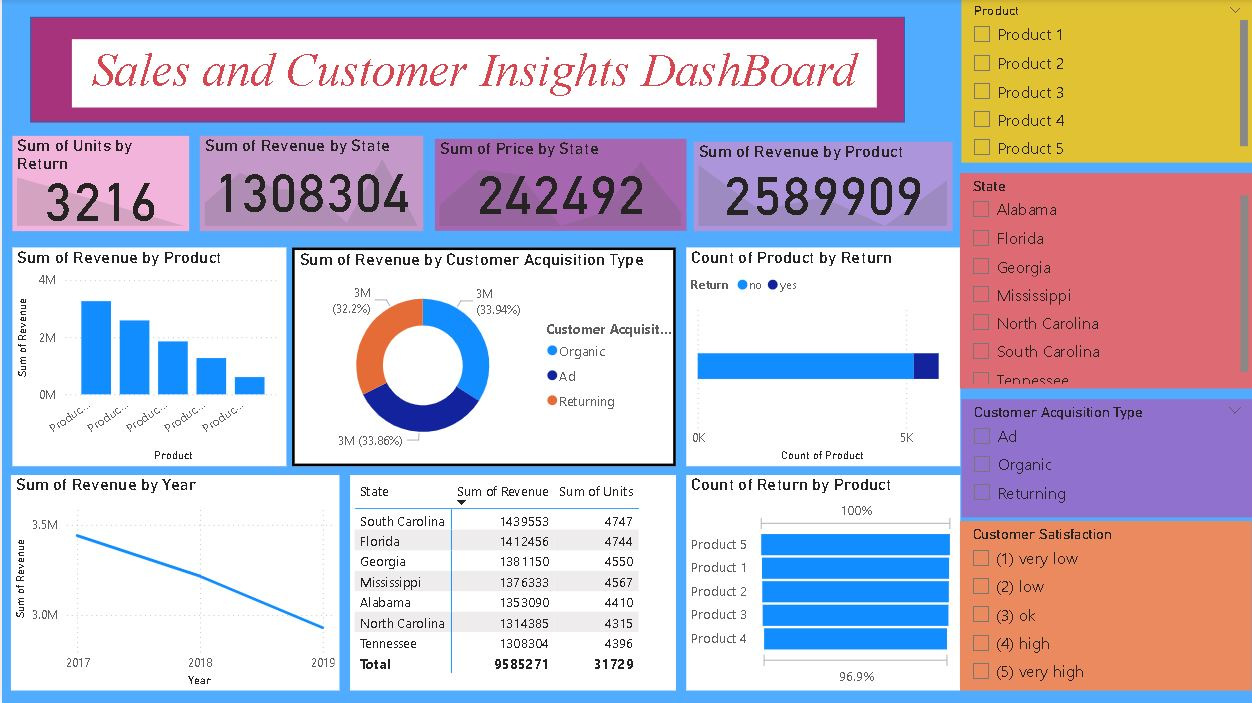

This screenshot's page, from the dashboard's own definition file:
{"tool":"powerbi","page":{"name":"Page 1","canvas":[1280,720],"ordinal":0},"visuals":[{"type":"clusteredColumnChart","fields":{"Category":["Data_Table.Product"],"Y":["Sum(Data_Table.Revenue)"]},"box":[10.7,254.2,280,223.7],"z":0},{"type":"lineChart","fields":{"Category":["Data_Table.Date.Variation.Date Hierarchy.Year","Data_Table.Date.Variation.Date Hierarchy.Quarter","Data_Table.Date.Variation.Date Hierarchy.Month","Data_Table.Date.Variation.Date Hierarchy.Day"],"Y":["Sum(Data_Table.Revenue)"]},"box":[9.1,487,336.3,220.7],"z":1000},{"type":"donutChart","fields":{"Category":["Data_Table.Customer Acquisition Type"],"Y":["Sum(Data_Table.Revenue)"]},"box":[296.8,254.2,392.6,223.7],"z":2000},{"type":"barChart","fields":{"Series":["Data_Table.Return"],"Y":["CountNonNull(Data_Table.Product)"]},"box":[700.1,254.2,280,223.7],"z":3000},{"type":"pivotTable","fields":{"Rows":["Data_Table.State"],"Values":["Sum(Data_Table.Revenue)","Sum(Data_Table.Units)"]},"box":[356.1,487,333.3,220.7],"z":4000},{"type":"kpi","fields":{"Indicator":["Sum(Data_Table.Revenue)"],"TrendLine":["Data_Table.Product"]},"box":[707.7,146.1,264.8,91.3],"z":5000},{"type":"kpi","fields":{"Indicator":["Sum(Data_Table.Revenue)"],"TrendLine":["Data_Table.State"]},"box":[202.4,140,228.3,97.4],"z":6000},{"type":"kpi","fields":{"TrendLine":["Data_Table.Return"],"Indicator":["Sum(Data_Table.Units)"]},"box":[10.7,140,181.1,97.4],"z":7000},{"type":"funnel","fields":{"Category":["Data_Table.Product"],"Y":["CountNonNull(Data_Table.Return)"]},"box":[700.1,487,280,220.7],"z":8000},{"type":"slicer","fields":{"Values":["Data_Table.State"]},"box":[980.1,178.1,299.8,220.7],"z":9000},{"type":"slicer","fields":{"Values":["Data_Table.Product"]},"box":[981.6,0,298.3,167.4],"z":10000},{"type":"slicer","fields":{"Values":["Data_Table.Customer Acquisition Type"]},"box":[981.5,408.7,298.8,120.7],"z":11000},{"type":"slicer","fields":{"Values":["Data_Table.Customer Satisfaction"]},"box":[980.1,534.2,298.3,173.5],"z":12000},{"type":"kpi","fields":{"Indicator":["Sum(Data_Table.Price)"],"TrendLine":["Data_Table.State"]},"box":[442.9,143.1,257.2,94.4],"z":13000},{"type":"shape","box":[28.9,18.3,894.9,108.1],"z":14000},{"type":"textbox","box":[71.5,41.1,823.3,70],"z":15000}]}

Visuals, with their boxes in screenshot pixels (x1, y1, x2, y2), scaled from the page's 1280x720 canvas onto the 1252x703 screenshot:
clusteredColumnChart - Data_Table.Product x Sum(Data_Table.Revenue): locate(10, 248, 284, 467)
lineChart - Data_Table.Date.Variation.Date Hierarchy.Year x Data_Table.Date.Variation.Date Hierarchy.Quarter: locate(9, 476, 338, 691)
donutChart - Data_Table.Customer Acquisition Type x Sum(Data_Table.Revenue): locate(290, 248, 674, 467)
barChart - Data_Table.Return x CountNonNull(Data_Table.Product): locate(685, 248, 959, 467)
pivotTable - Data_Table.State x Sum(Data_Table.Revenue): locate(348, 476, 674, 691)
kpi - Sum(Data_Table.Revenue) x Data_Table.Product: locate(692, 143, 951, 232)
kpi - Sum(Data_Table.Revenue) x Data_Table.State: locate(198, 137, 421, 232)
kpi - Data_Table.Return x Sum(Data_Table.Units): locate(10, 137, 188, 232)
funnel - Data_Table.Product x CountNonNull(Data_Table.Return): locate(685, 476, 959, 691)
slicer - Data_Table.State: locate(959, 174, 1251, 389)
slicer - Data_Table.Product: locate(960, 0, 1251, 163)
slicer - Data_Table.Customer Acquisition Type: locate(960, 399, 1251, 517)
slicer - Data_Table.Customer Satisfaction: locate(959, 522, 1250, 691)
kpi - Sum(Data_Table.Price) x Data_Table.State: locate(433, 140, 685, 232)
shape: locate(28, 18, 904, 123)
textbox: locate(70, 40, 875, 108)
